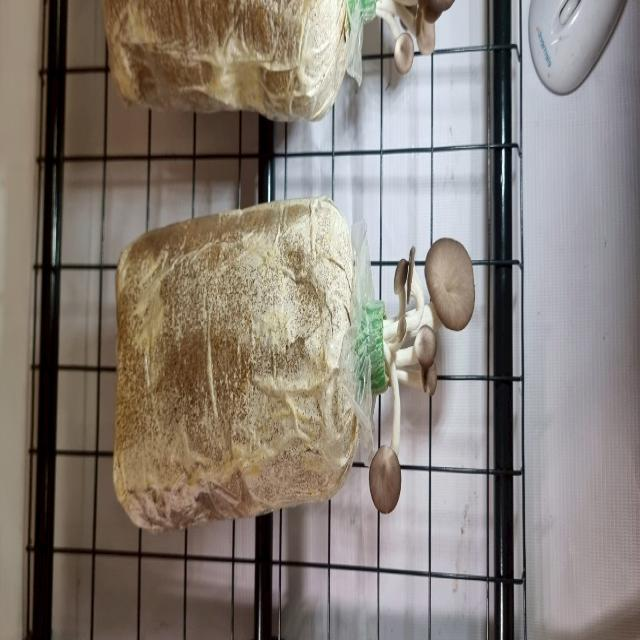normal: (364, 327, 404, 503), (415, 242, 478, 344)
